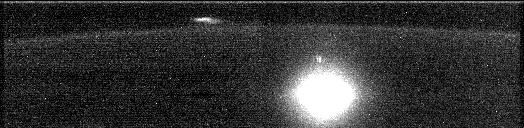positive: (311, 53, 328, 74)
